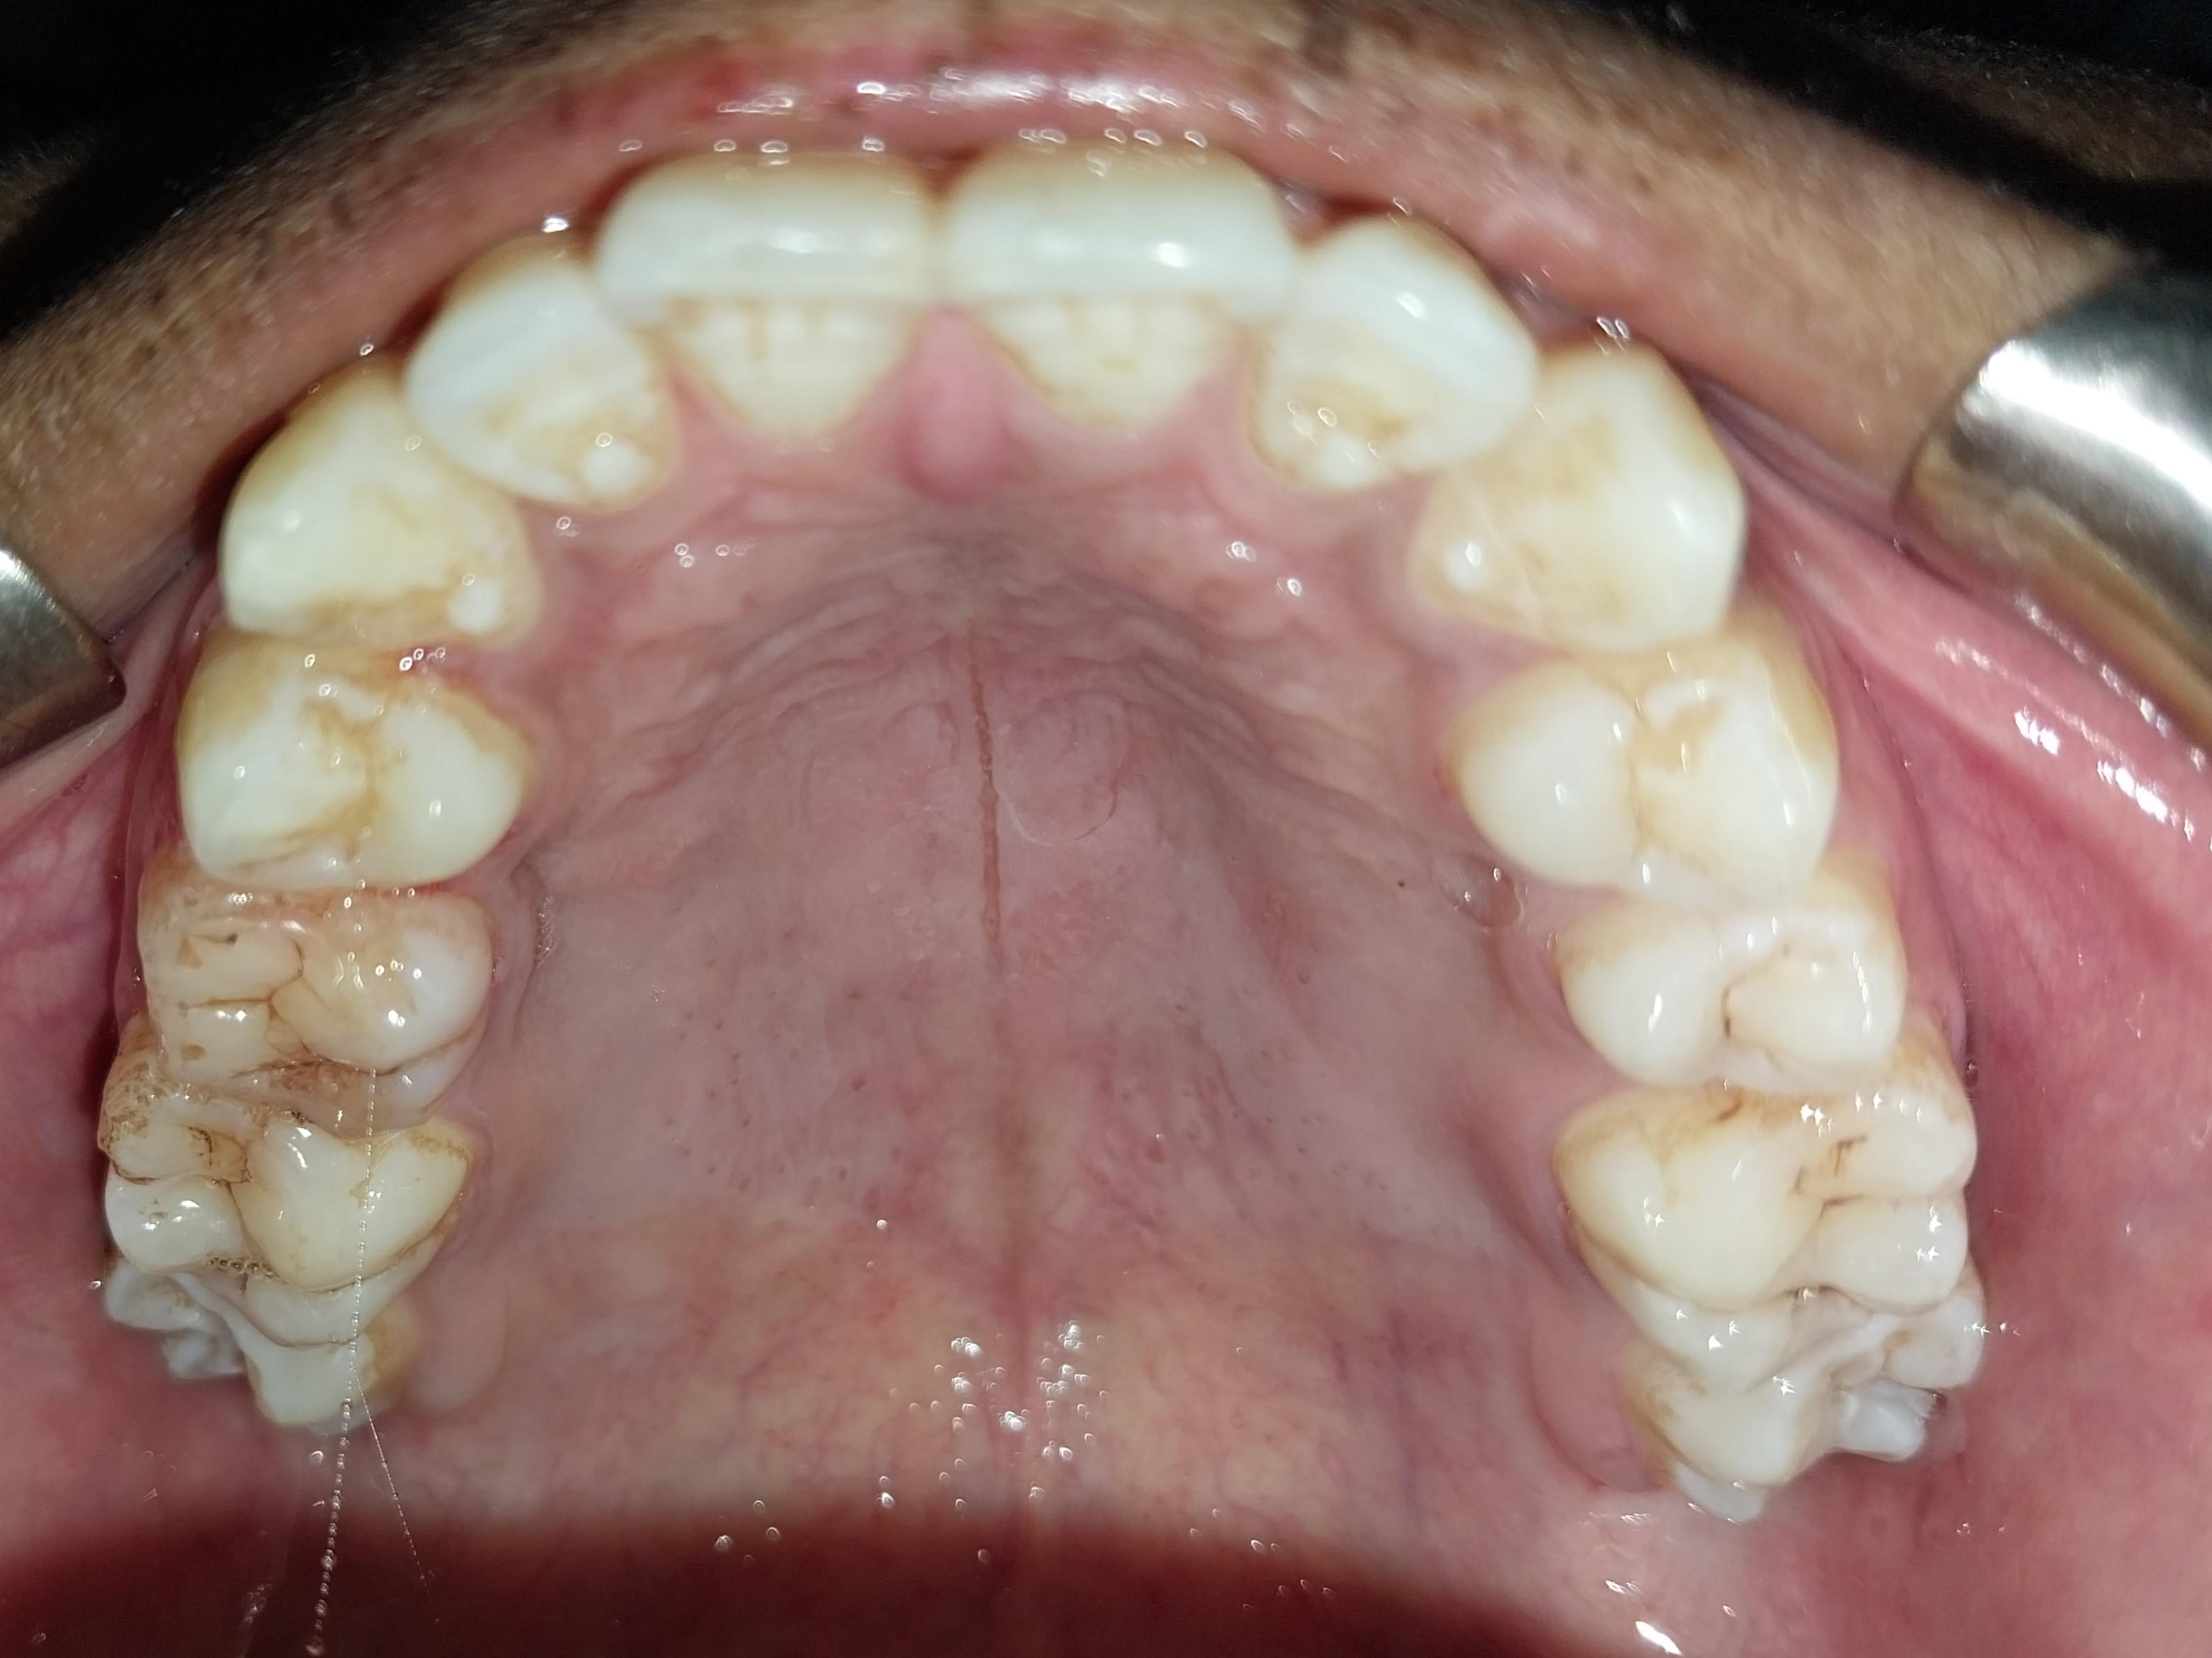D: (1551, 1040, 1976, 1392), (101, 1058, 471, 1346), (131, 849, 489, 1146), (1569, 860, 1906, 1104)
